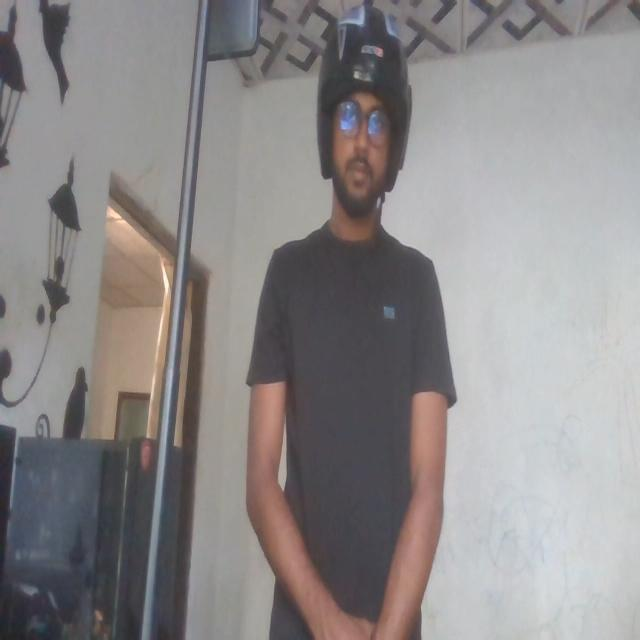Helmet_Wearer: (315, 0, 412, 245)
Person: (242, 0, 462, 640)
